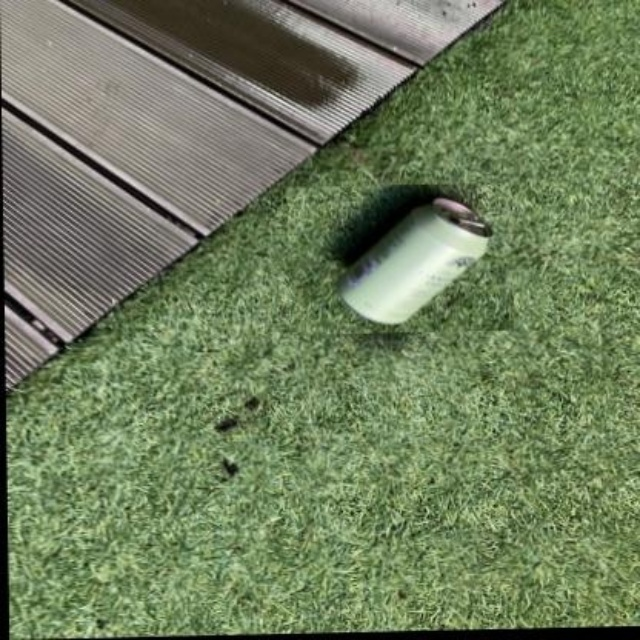trash: (340, 198, 491, 322)
